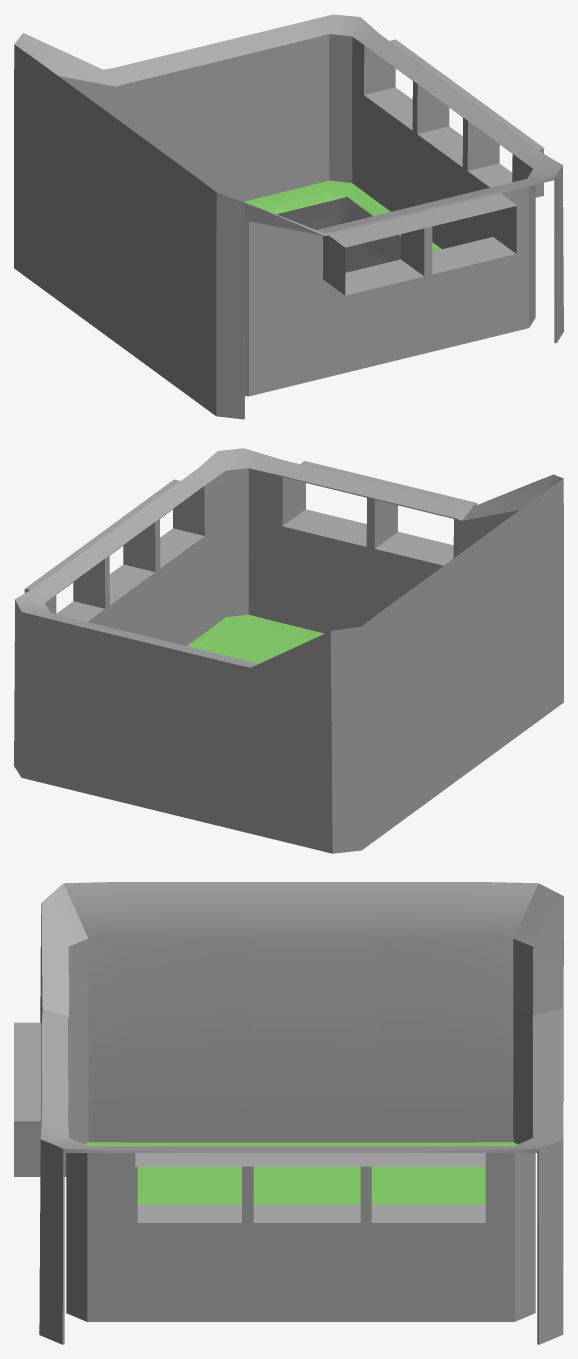
Rendered from Playground.fbx.
3 views of the same model, one above another, from view 1: azimuth 30°, elevation 25°; view 2: azimuth 150°, elevation 25°; view 3: azimuth 270°, elevation 25° (orthographic). The views are drawn at different scales.
Visible parts, largest first — view 1: Playground1; view 2: Playground1; view 3: Playground1.
Boxes of the visible parts, left/top/right/bottom form: Playground1: left=14, top=14, right=563, bottom=419; Playground1: left=14, top=448, right=563, bottom=853; Playground1: left=14, top=882, right=563, bottom=1344.
Bounding box in the file's own units: 35.66 × 21.45 × 40.24.
